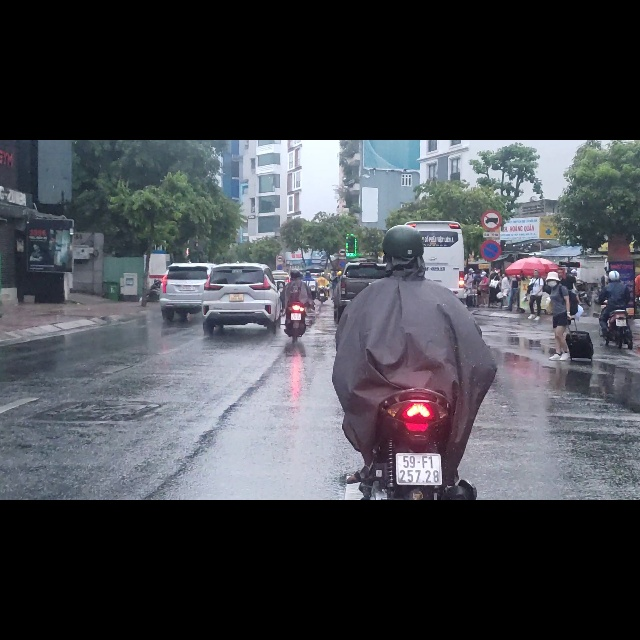bien_cam: (480, 124, 502, 161), (480, 177, 501, 215), (338, 213, 346, 226), (339, 192, 346, 206)
